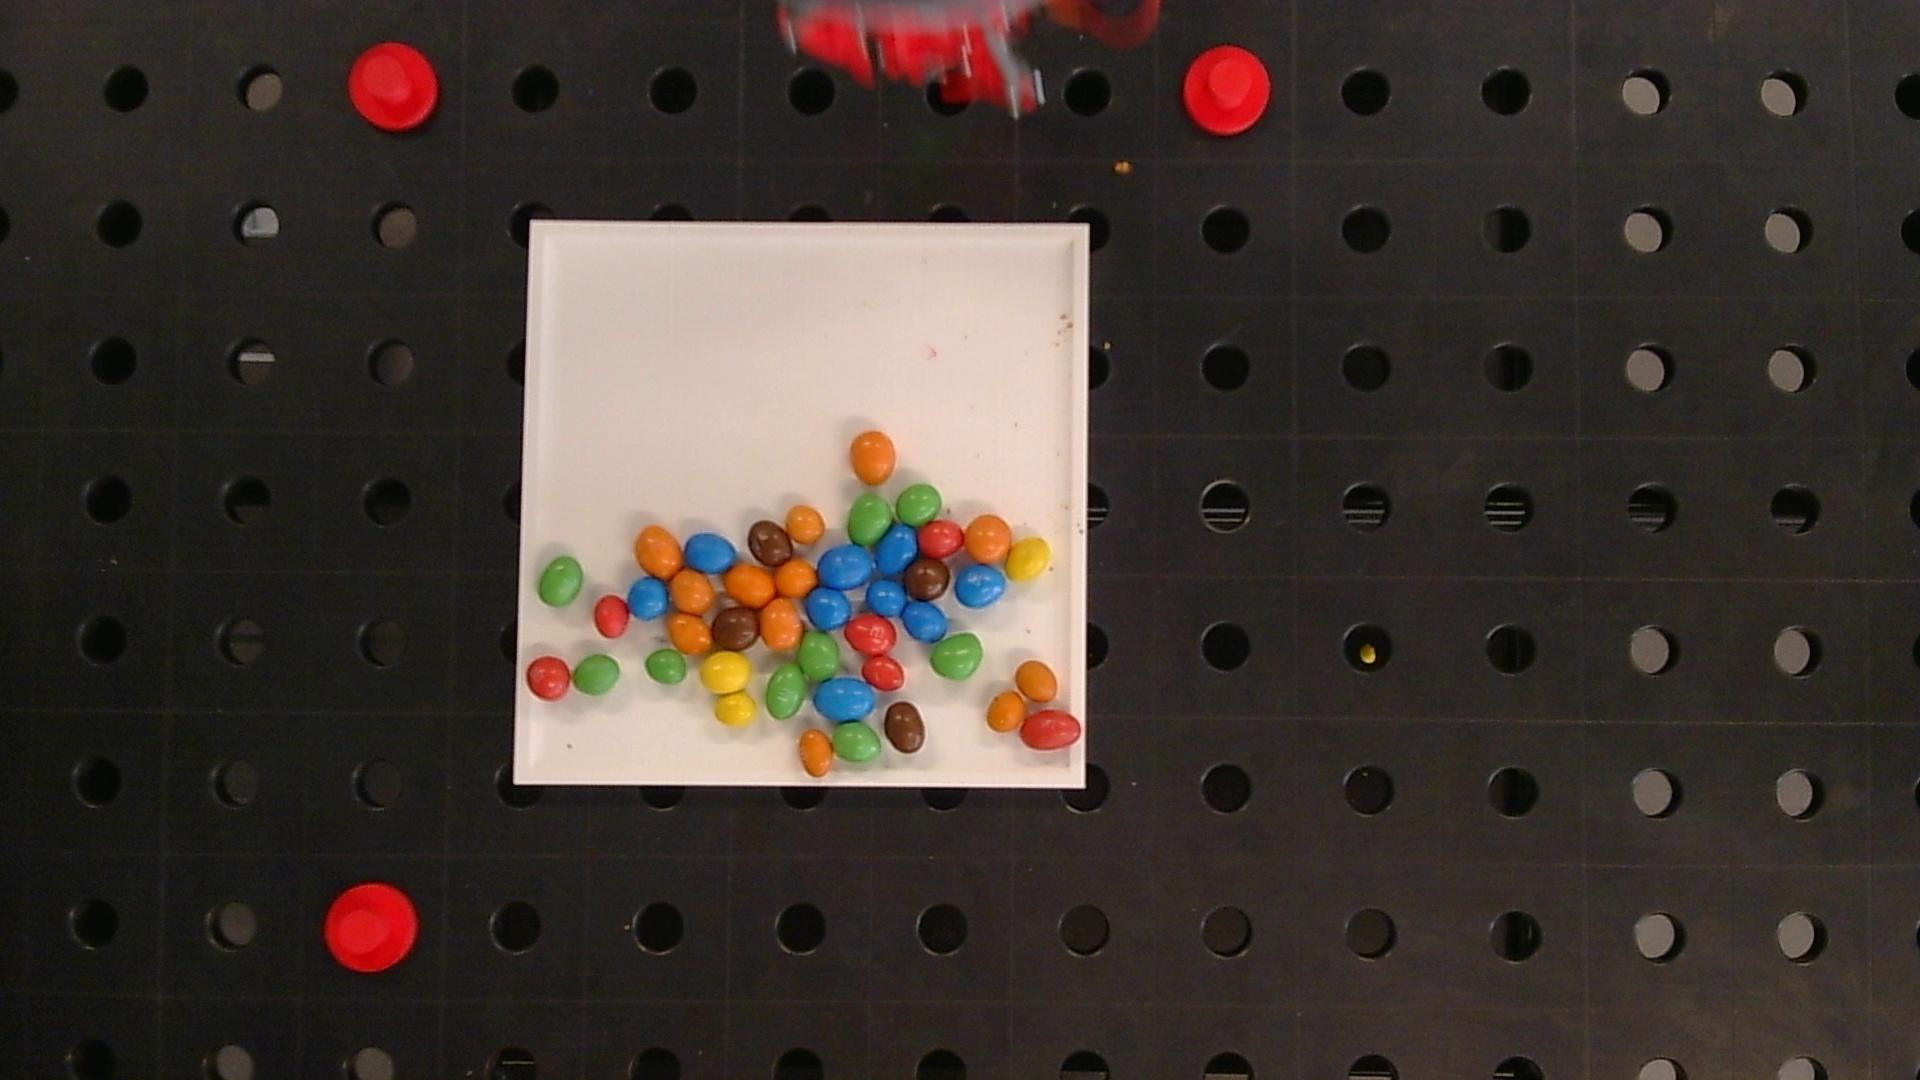blue: (815, 676, 876, 720), (818, 545, 876, 589), (955, 563, 1006, 608), (684, 533, 737, 572), (877, 525, 918, 574), (901, 600, 947, 642), (807, 588, 851, 630), (628, 578, 669, 618), (865, 578, 907, 616)
brown: (884, 702, 926, 753), (748, 520, 791, 567), (712, 607, 760, 650), (905, 558, 949, 599)
green: (928, 633, 982, 680), (765, 663, 807, 719), (848, 495, 894, 545), (538, 555, 583, 605), (833, 721, 882, 765), (798, 632, 840, 682), (572, 654, 620, 695), (895, 484, 942, 525), (645, 649, 687, 686)
orange: (634, 525, 683, 579), (851, 430, 897, 484), (964, 513, 1011, 563), (760, 597, 803, 649), (723, 564, 774, 605), (670, 570, 715, 613), (1015, 661, 1058, 703), (669, 613, 712, 654), (799, 729, 833, 777), (774, 558, 816, 596), (986, 691, 1025, 732), (786, 504, 824, 543)
red: (1018, 711, 1081, 749), (526, 655, 571, 700), (845, 615, 895, 653), (919, 520, 964, 558), (593, 595, 629, 638), (862, 654, 905, 690)
yellow: (1005, 537, 1051, 582), (700, 651, 750, 692), (715, 694, 757, 727)
